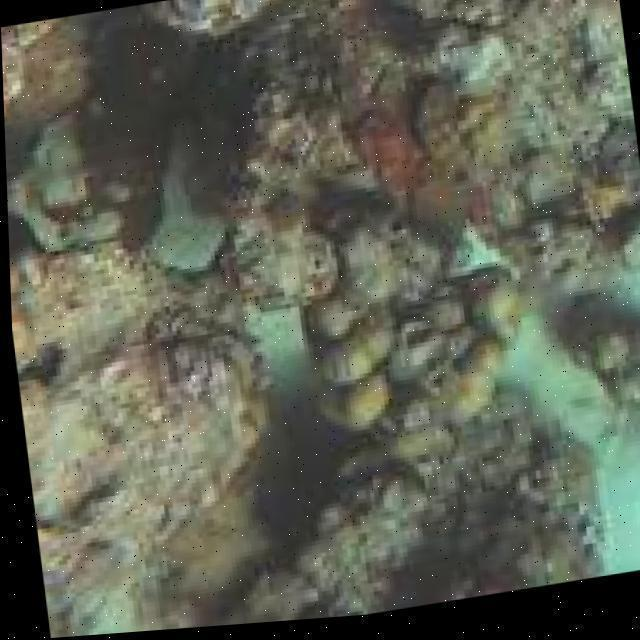Dead Coral: (304, 410, 587, 601)
